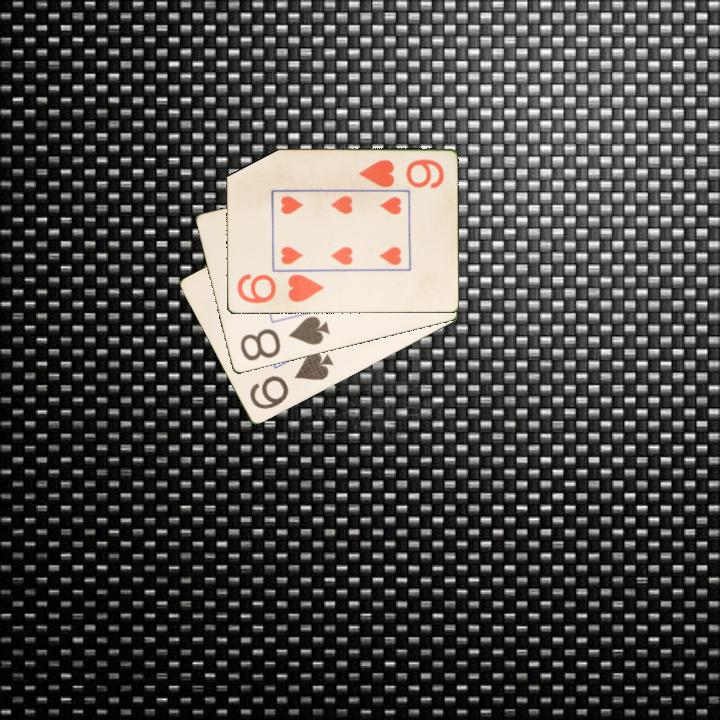6h: (233, 271, 326, 309), (355, 156, 447, 191)
6s: (246, 349, 336, 413)
8s: (236, 313, 332, 364)
